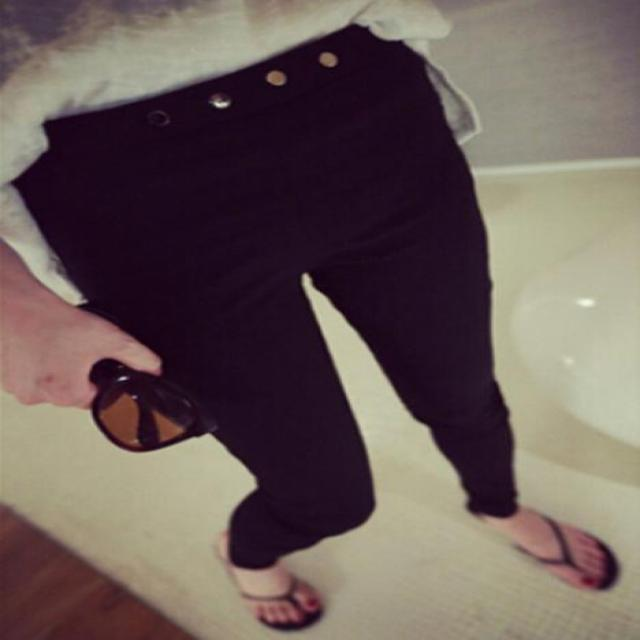trousers: (46, 89, 564, 565)
